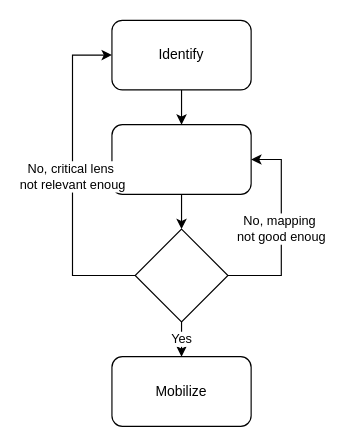
Image size: 346x447. Some labels were removed from this diagram. The centre of each missing label's shape, as x and y in pixels:
"Analyz e" belongs at (181,159).
"Validate?" belongs at (181,275).
